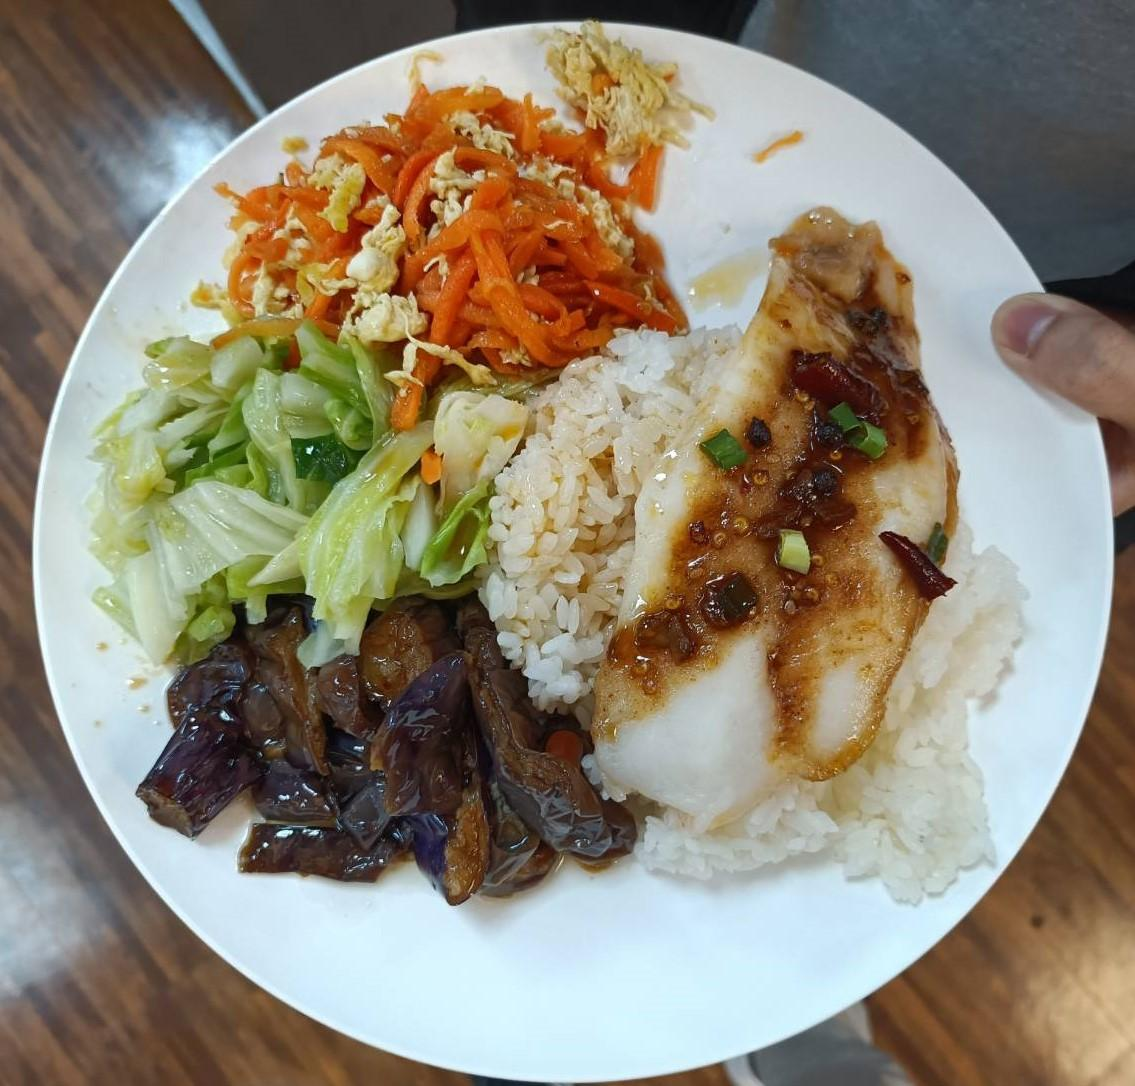big fried chicken leg: (13, 25, 1125, 1086)
big herbal chicken leg: (505, 334, 1041, 890)
braised fish fillet: (182, 600, 517, 911), (231, 117, 688, 325), (113, 351, 445, 604)
braised pork ribs: (620, 205, 959, 788)
